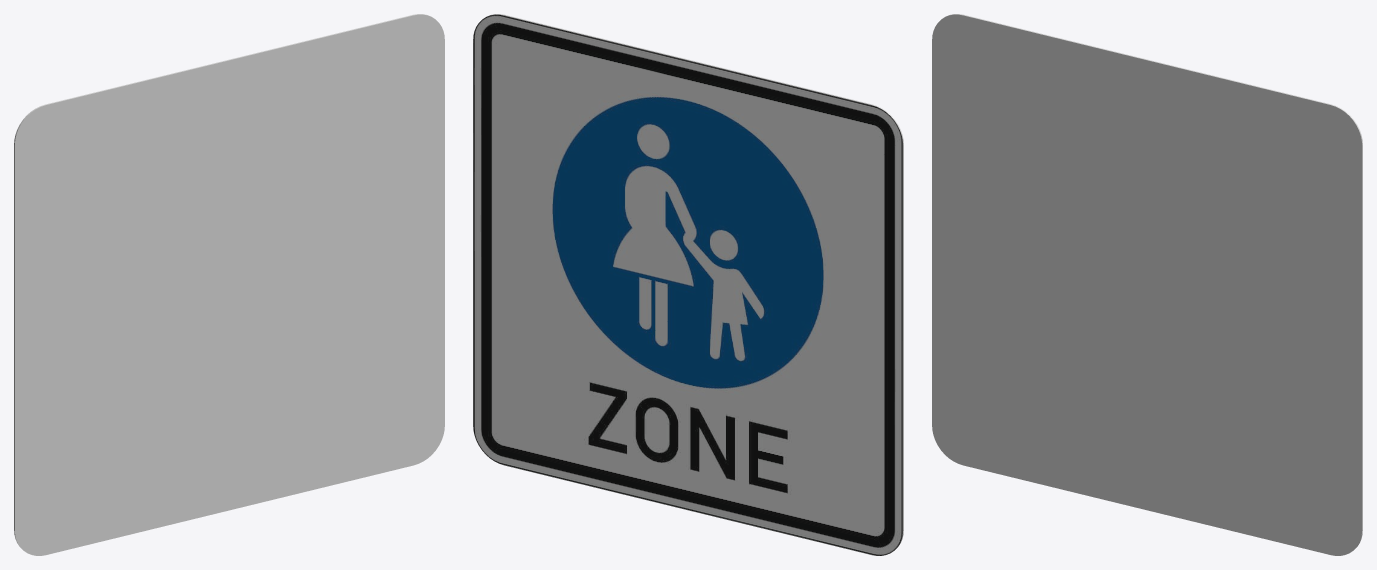
The picture shows the model from 3 angles, left to right: view 1: azimuth 30°, elevation 25°; view 2: azimuth 150°, elevation 25°; view 3: azimuth 330°, elevation 25°; orthographic projection.
Parts seen in each view (by area): view 1: Plane; view 2: Plane; view 3: Plane.
Boxes of the visible parts, x1,y1,x2,y2 form: Plane: (14, 14, 444, 555); Plane: (473, 14, 903, 555); Plane: (932, 14, 1362, 555).
Bounding box in the file's own units: 0.6 × 0.6 × 0.002.
2 materials, 1 textured.
